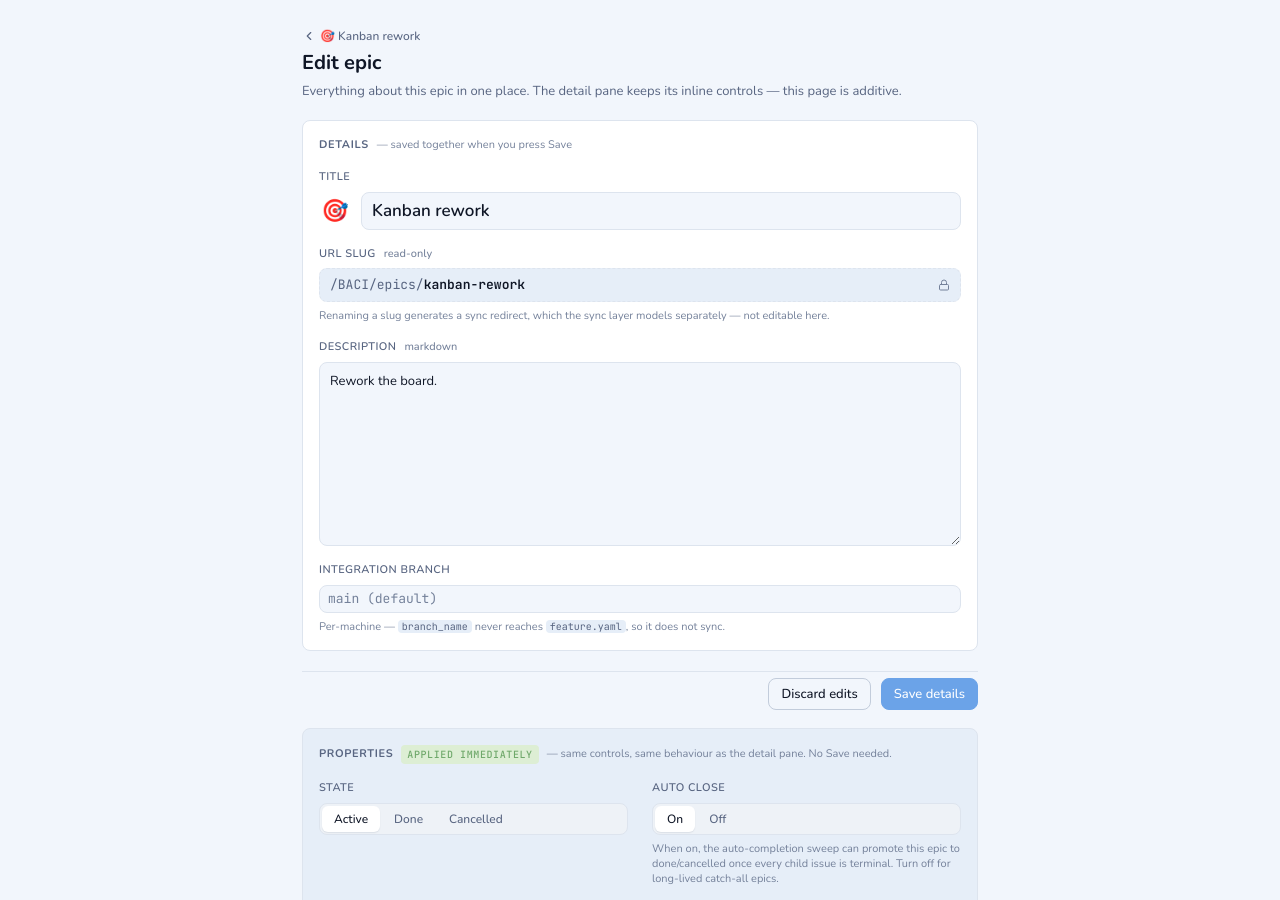
Test case: EditEpicPage — navigation guard › routes the page-owned back link through the same confirm
Step 1. Replace the text in the field labelled "Title" with "Kanban overhaul" → (661, 210), box [361,192,961,230]
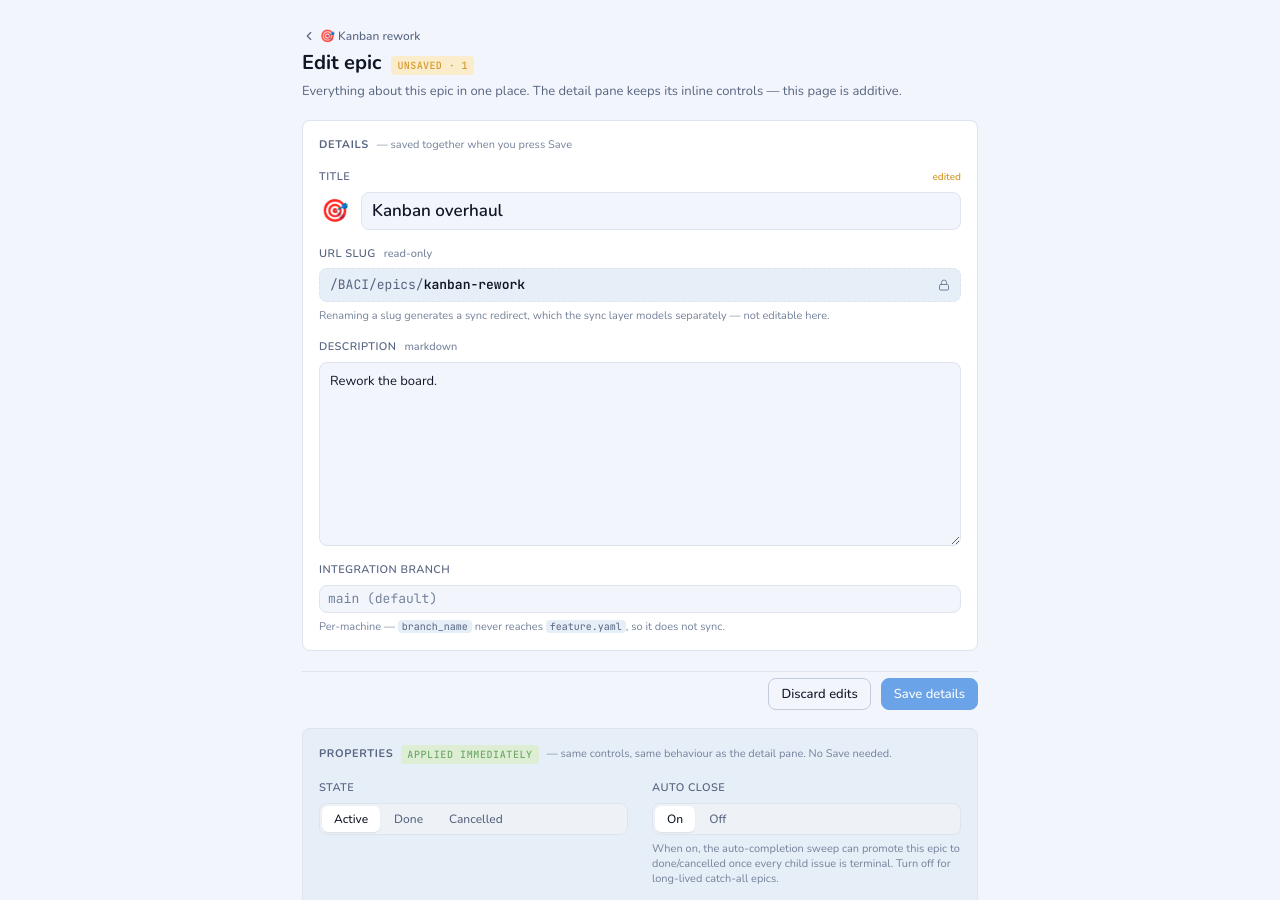
Step 2. Click the button "Discard edits" → (820, 694), box [768,678,871,710]
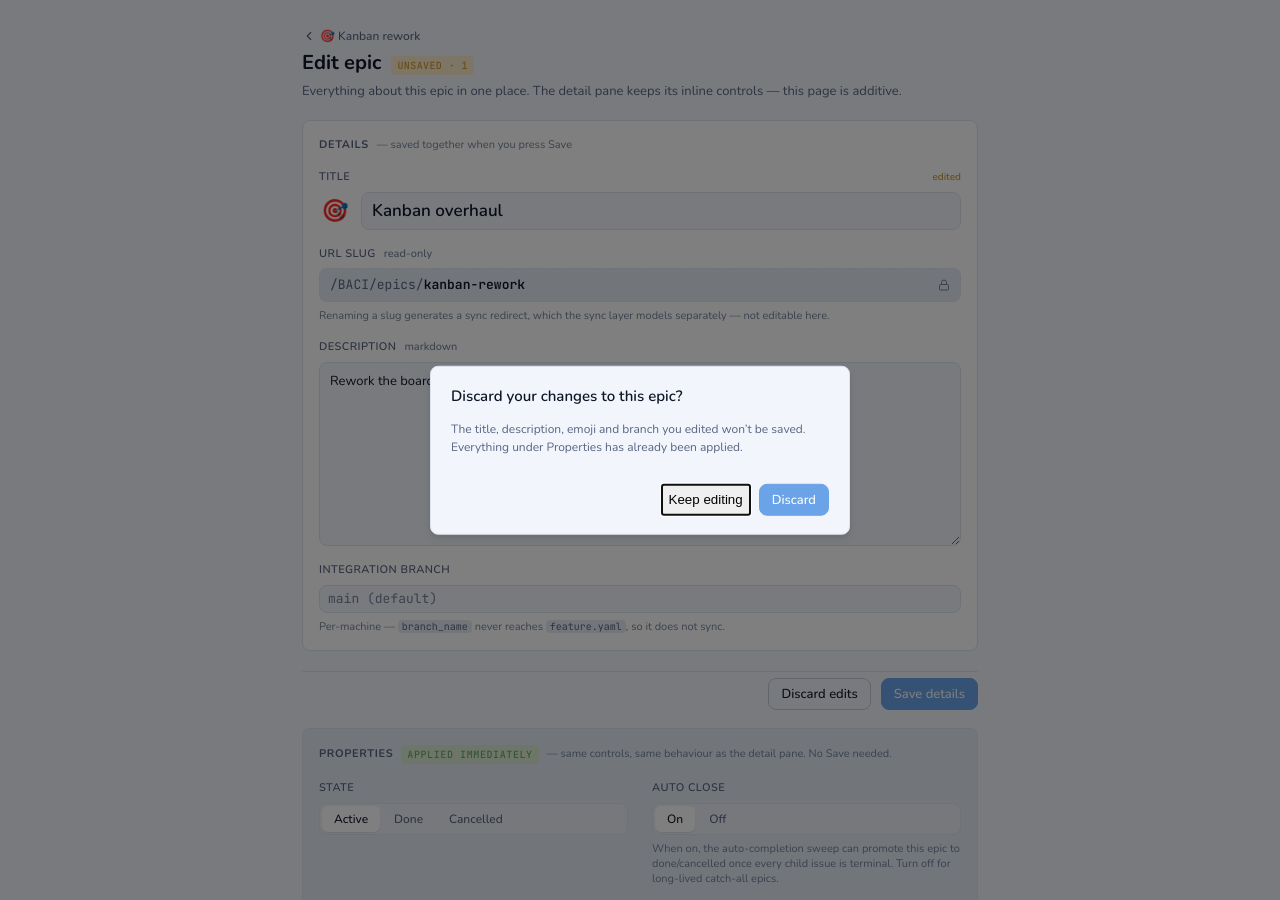
Now the heading "Discard your changes to this epic?" is shown, box [451,386,682,406]
